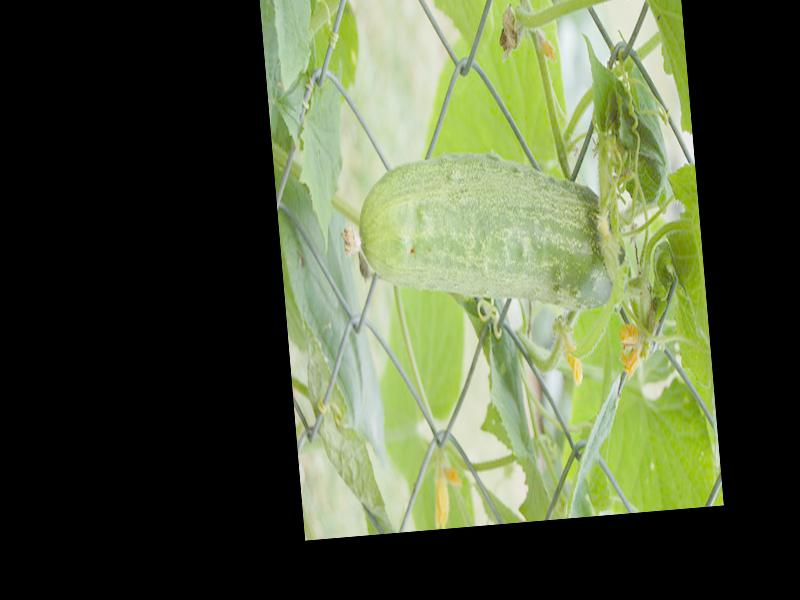Cucumber: (338, 145, 626, 324)
